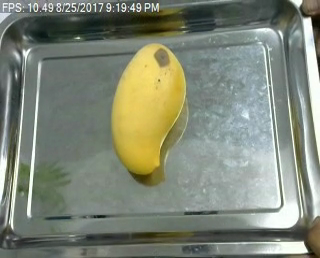Mango: (111, 42, 187, 175)
